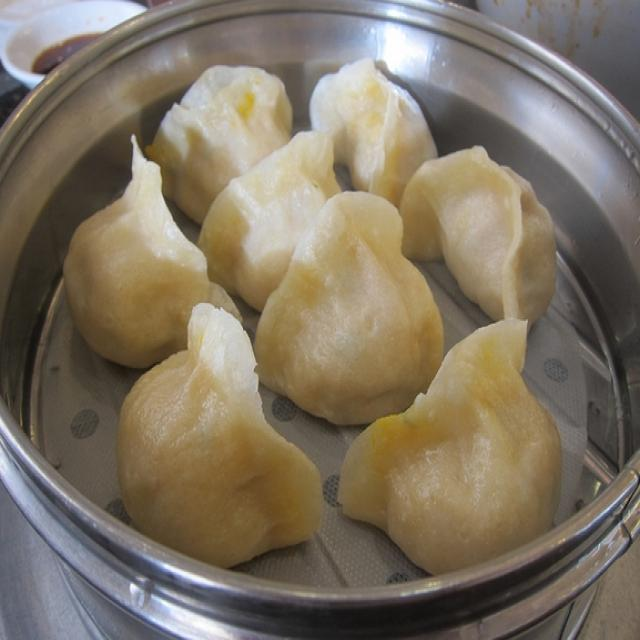带馅早点: (38, 27, 596, 597)
